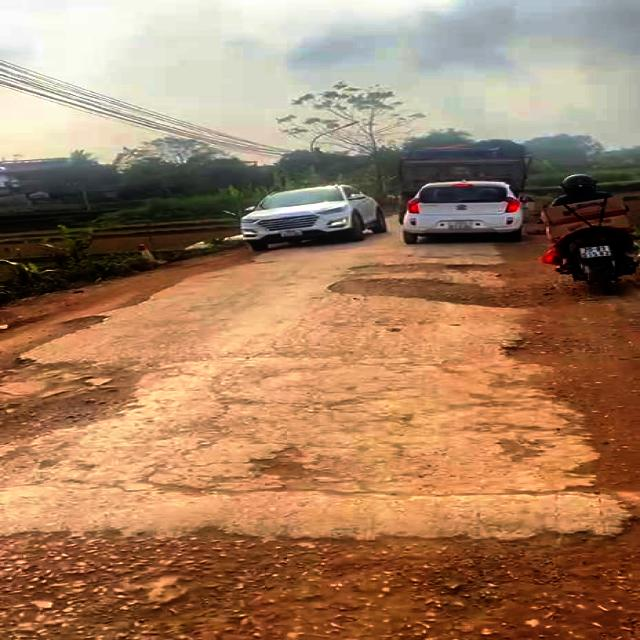pothole: (0, 313, 141, 441), (323, 260, 532, 308), (568, 450, 640, 552), (246, 444, 320, 494), (502, 327, 563, 368)
